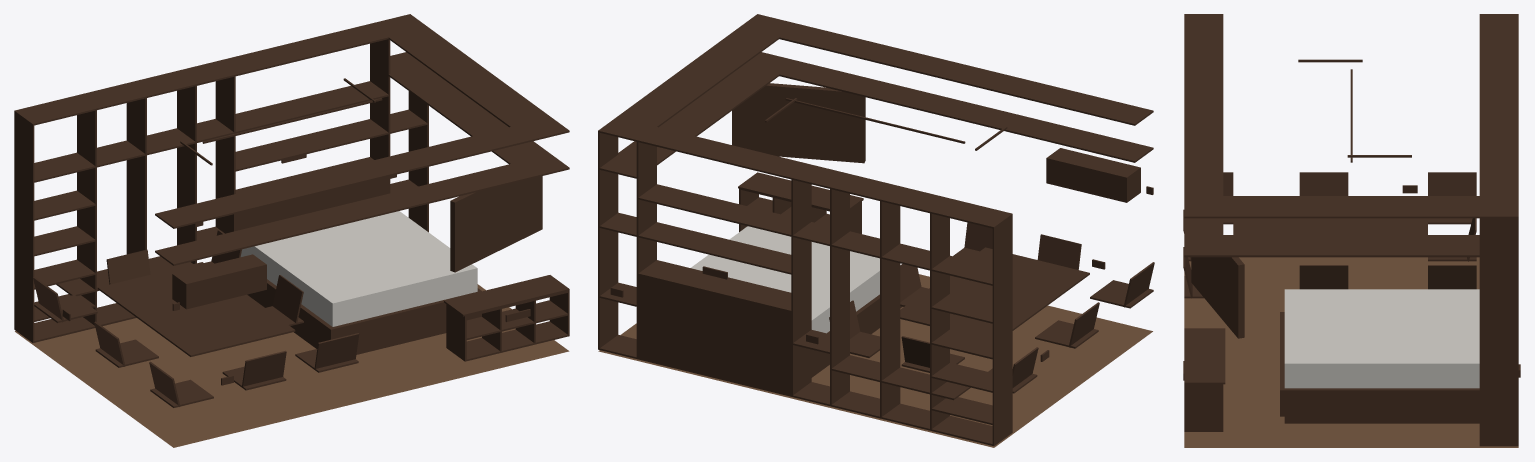
File: bedroom.glb
3 views of the same model, side by side, from view 1: azimuth 30°, elevation 25°; view 2: azimuth 150°, elevation 25°; view 3: azimuth 270°, elevation 25° (orthographic). The views are drawn at different scales.
Parts seen in each view (by area): view 1: Floor, Cube.040, Cube.017, Cube.006, Cube.019, Cube.083, Cube.013, Cube.010, Cube.041, Cube.018, Cube.087, Cube.015 (+40 smaller); view 2: Cube.002, Floor, Cube.083, Cube.006, Cube.017, Cube.040, Cube.019, Cube.013, Cube.010, Cube.007, Cube.027, Cube.012 (+40 smaller); view 3: Floor, Cube.040, Cube.011, Cube.006, Cube.041, Cube.018, Cube.013, Cube.019, Cube.015, Cube.083, Cube.058, Cube.051 (+10 smaller).
Boxes of the visible parts, <box> form: Floor: <box>15,284,569,447</box>; Cube.040: <box>240,211,477,326</box>; Cube.017: <box>155,154,569,265</box>; Cube.006: <box>155,117,569,228</box>; Cube.019: <box>97,262,295,356</box>; Cube.083: <box>450,176,542,272</box>; Cube.013: <box>388,27,550,127</box>; Cube.010: <box>14,110,34,342</box>; Cube.041: <box>248,279,481,348</box>; Cube.018: <box>388,65,550,164</box>; Cube.087: <box>172,254,266,309</box>; Cube.015: <box>218,24,388,75</box>; Cube.002: <box>638,275,791,396</box>; Floor: <box>598,274,1152,447</box>; Cube.083: <box>732,83,865,163</box>; Cube.006: <box>739,14,1153,125</box>; Cube.017: <box>743,52,1153,162</box>; Cube.040: <box>691,226,879,333</box>; Cube.019: <box>900,247,1089,339</box>; Cube.013: <box>617,27,779,127</box>; Cube.010: <box>992,213,1012,444</box>; Cube.007: <box>791,178,811,396</box>; Cube.027: <box>880,199,900,418</box>; Cube.012: <box>830,173,849,406</box>; Floor: <box>1184,257,1518,447</box>; Cube.040: <box>1284,289,1479,388</box>; Cube.011: <box>1479,216,1518,446</box>; Cube.006: <box>1184,14,1223,218</box>; Cube.041: <box>1280,312,1479,416</box>; Cube.018: <box>1223,235,1479,257</box>; Cube.013: <box>1223,196,1479,218</box>; Cube.019: <box>1233,218,1427,234</box>; Cube.015: <box>1479,118,1518,195</box>; Cube.083: <box>1191,257,1244,338</box>; Cube.058: <box>1479,35,1518,97</box>; Cube.051: <box>1184,328,1225,384</box>.
Size of the model in its own units: 4.94 by 2.63 by 3.46.
